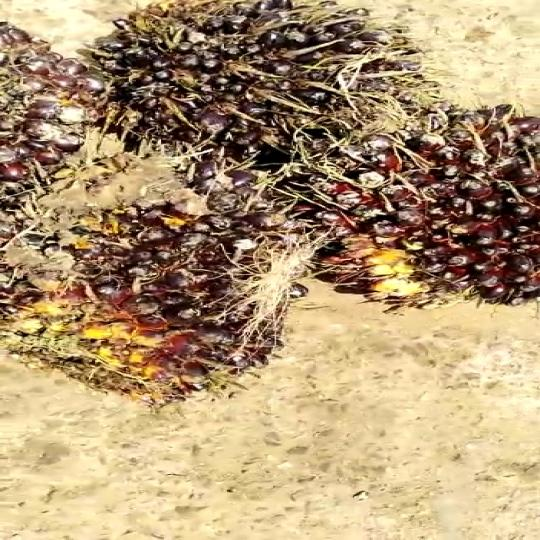kurang masak: (0, 127, 301, 424), (77, 0, 387, 146), (315, 111, 540, 311)
